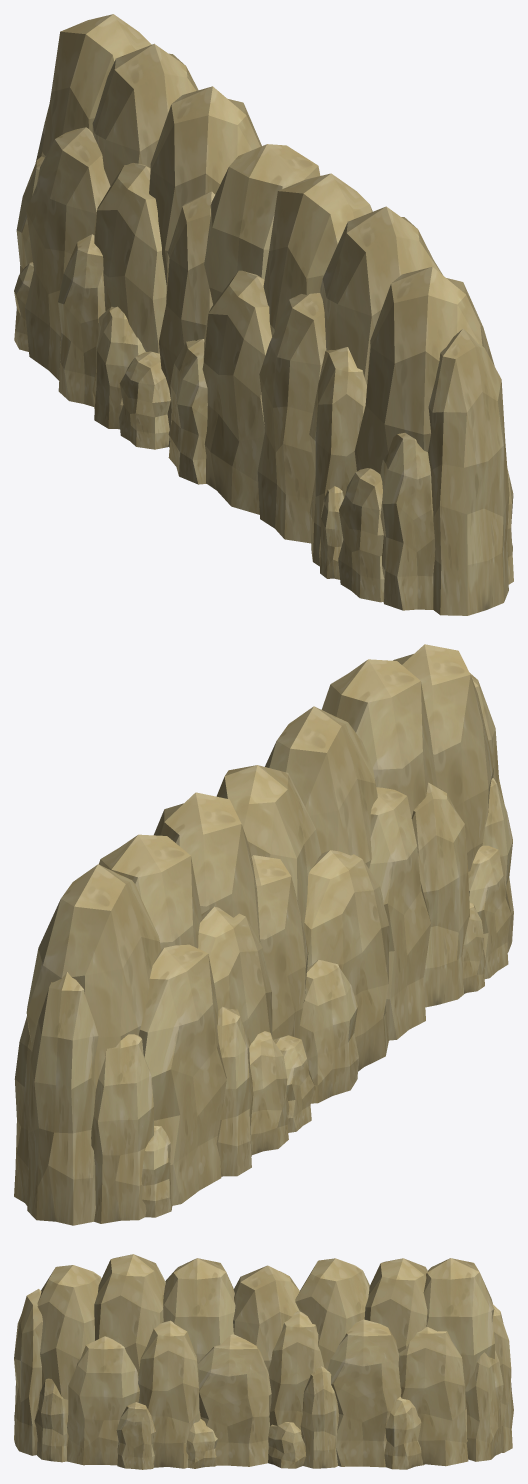
File: ModelWall_Omote_Yellow.fbx
3 renders of one model, top to bottom at view 1: azimuth 30°, elevation 25°; view 2: azimuth 150°, elevation 25°; view 3: azimuth 270°, elevation 25°, orthographic. The views are drawn at different scales.
Parts seen in each view (by area): view 1: Kabe_Omote_Yellow; view 2: Kabe_Omote_Yellow; view 3: Kabe_Omote_Yellow.
Boxes of the visible parts, box(x1,y1,x2,y2) form: Kabe_Omote_Yellow: box(14, 14, 513, 615); Kabe_Omote_Yellow: box(14, 644, 513, 1225); Kabe_Omote_Yellow: box(14, 1254, 513, 1469).
Size of the model in its own units: 23.23 by 38.93 by 92.04.
Materials: 1 (1 with a texture image).
